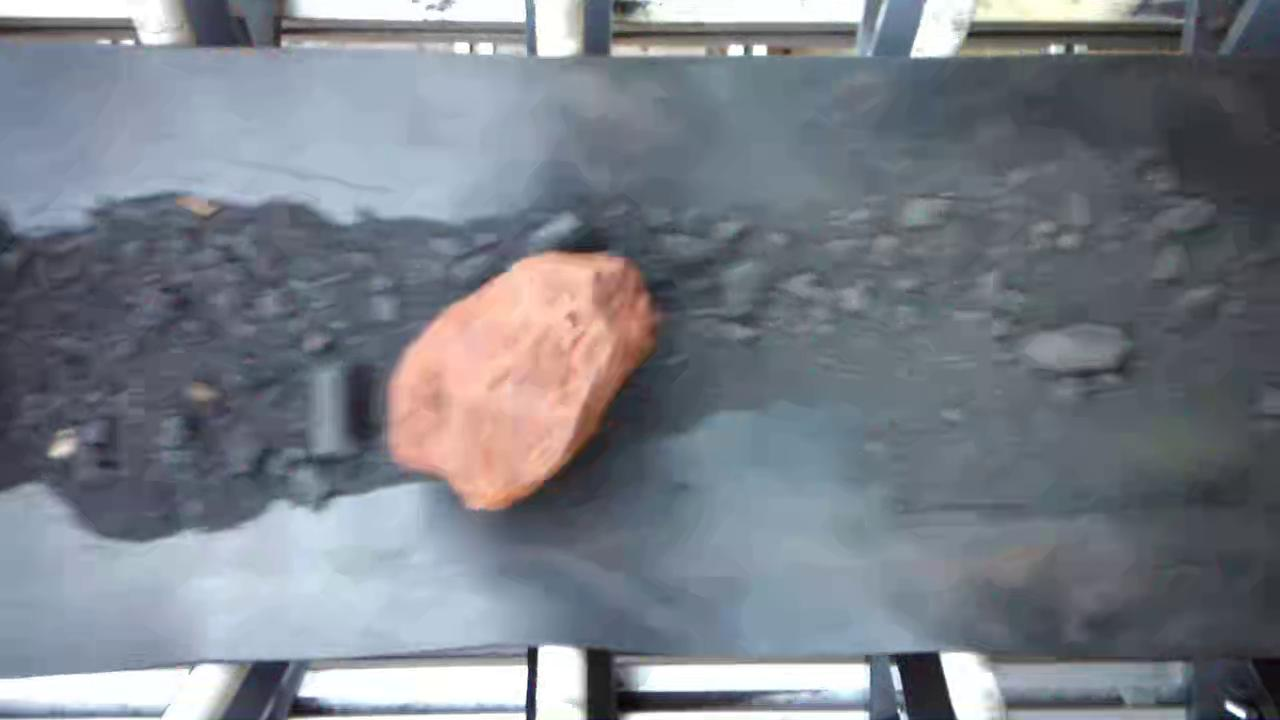conveyor: (7, 67, 1274, 638)
